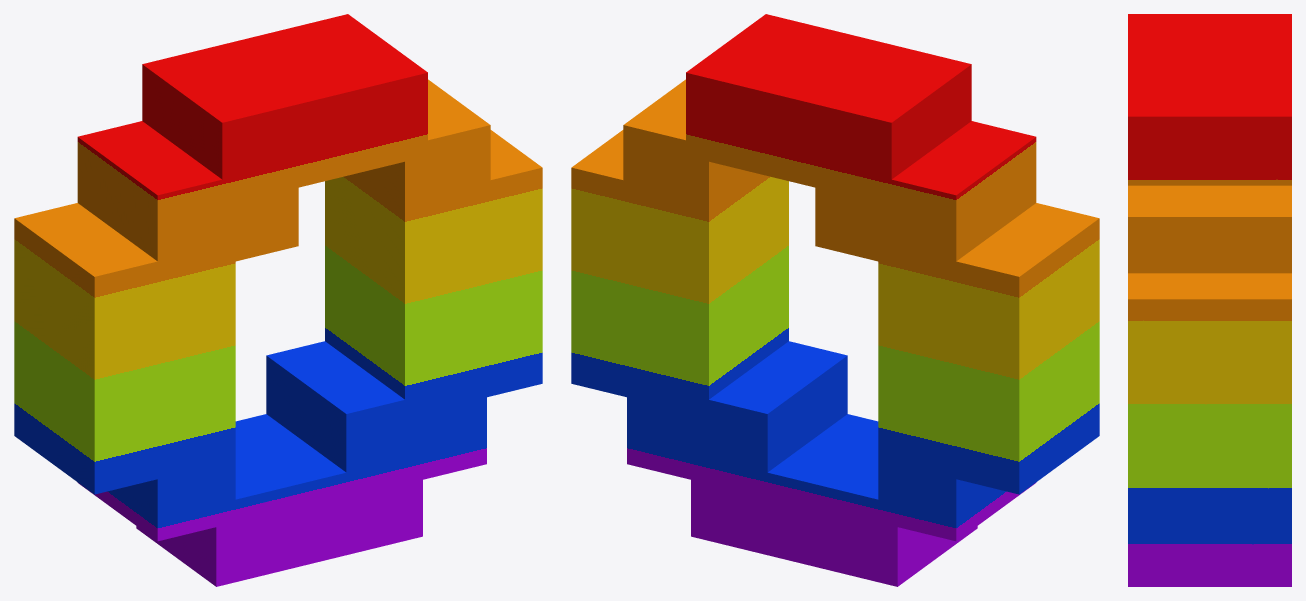
Rendered from Number_00.fbx.
3 views of the same model, side by side, from view 1: azimuth 30°, elevation 25°; view 2: azimuth 150°, elevation 25°; view 3: azimuth 270°, elevation 25° (orthographic). The views are drawn at different scales.
Parts seen in each view (by area): view 1: Number_00; view 2: Number_00; view 3: Number_00.
Boxes of the visible parts, box(x1,y1,x2,y2) form: Number_00: box(14, 14, 542, 586); Number_00: box(571, 14, 1099, 586); Number_00: box(1128, 14, 1291, 586).
Size of the model in its own units: 78.48 by 77.44 by 24.3.
